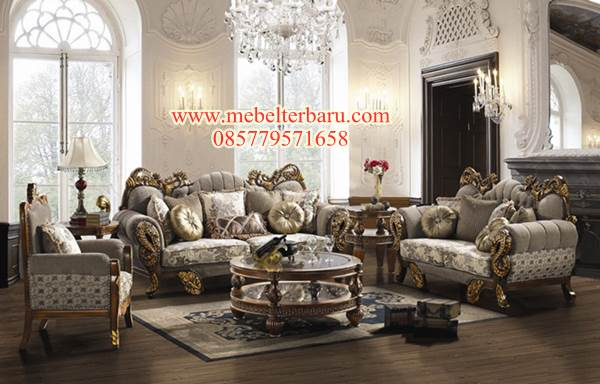Carving Chair: (123, 159, 358, 295), (396, 167, 584, 314), (14, 182, 137, 354)
Carving Table: (230, 246, 370, 328)
